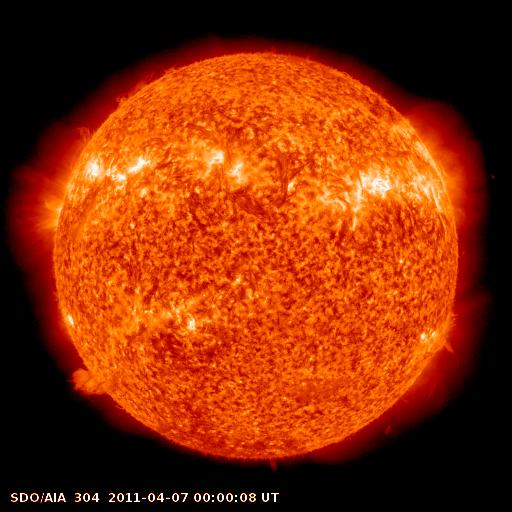prominence: (108, 59, 181, 109), (64, 357, 120, 406), (427, 304, 468, 360), (71, 114, 101, 153)
